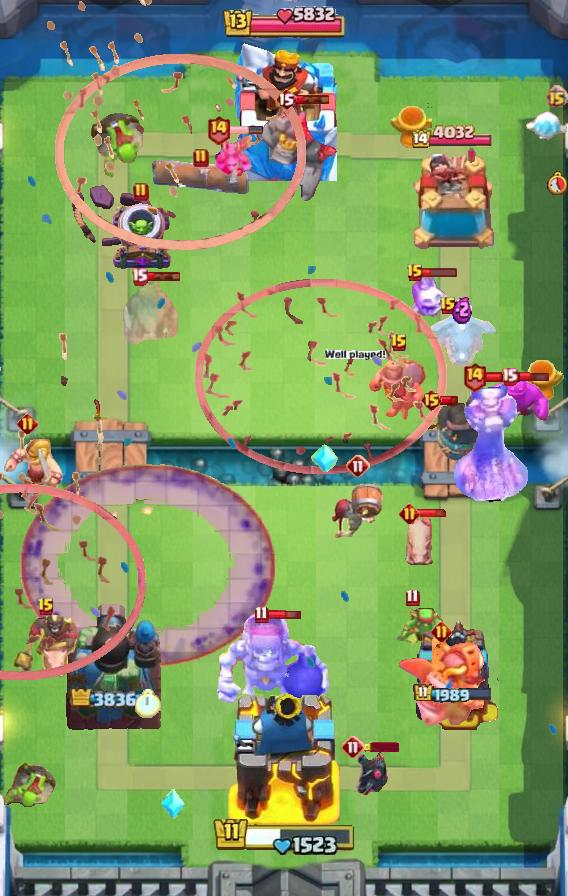bandit: (368, 353, 430, 423)
bar-level: (88, 110, 146, 182), (0, 760, 58, 808)
bat: (526, 110, 568, 146)
battle-ram: (353, 750, 391, 800)
cannoneer-tower: (259, 97, 347, 203)
clock: (212, 813, 356, 855), (221, 3, 347, 43)
electro-dragon: (452, 380, 530, 508)
electro-giant: (215, 610, 333, 728)
electro-spirit: (452, 295, 472, 324)
elixir: (135, 689, 161, 718), (547, 171, 567, 195)
emote: (485, 370, 523, 383), (266, 608, 302, 621), (515, 370, 550, 383), (422, 266, 458, 277), (295, 94, 330, 105), (146, 271, 181, 282), (228, 125, 264, 135), (363, 742, 399, 752), (417, 508, 449, 518), (440, 395, 459, 406)
freeze: (12, 614, 80, 680)
giant: (404, 516, 438, 572)
giant-snowball: (397, 603, 445, 649)
goblin-cage: (109, 202, 173, 272)
goblin-giant: (0, 436, 66, 498)
graveyard: (426, 306, 498, 370)
king-tower: (226, 688, 342, 826), (231, 43, 337, 181)
knight: (330, 482, 386, 540)
minion: (150, 158, 252, 194)
mirror: (408, 271, 450, 321)
mortar-evolution: (121, 279, 179, 347)
night-witch: (394, 638, 488, 730)
pad_2: (311, 441, 339, 475), (160, 788, 186, 820)
queen-tower: (405, 617, 501, 731), (405, 154, 501, 256)
rocket: (20, 464, 276, 668)
royal-delivery: (215, 128, 255, 178)
royal-hog: (403, 401, 495, 469)
selected: (413, 125, 496, 152), (413, 683, 493, 705), (69, 689, 158, 707)
skeleton-barrel: (43, 0, 307, 252), (0, 327, 146, 681), (195, 277, 447, 475)
text: (206, 114, 231, 145), (462, 361, 486, 392), (346, 454, 370, 478), (341, 735, 365, 759), (544, 84, 567, 108), (420, 388, 443, 412), (275, 87, 297, 111), (431, 621, 453, 643), (399, 504, 421, 525), (18, 413, 39, 434), (406, 263, 424, 283), (439, 296, 457, 316), (390, 333, 408, 353), (37, 597, 55, 617), (131, 267, 149, 286), (193, 148, 209, 168), (133, 182, 149, 202), (501, 367, 518, 385), (255, 605, 270, 623), (405, 589, 419, 608)
tornado: (488, 377, 550, 423)
tower-bar: (64, 601, 164, 731)
